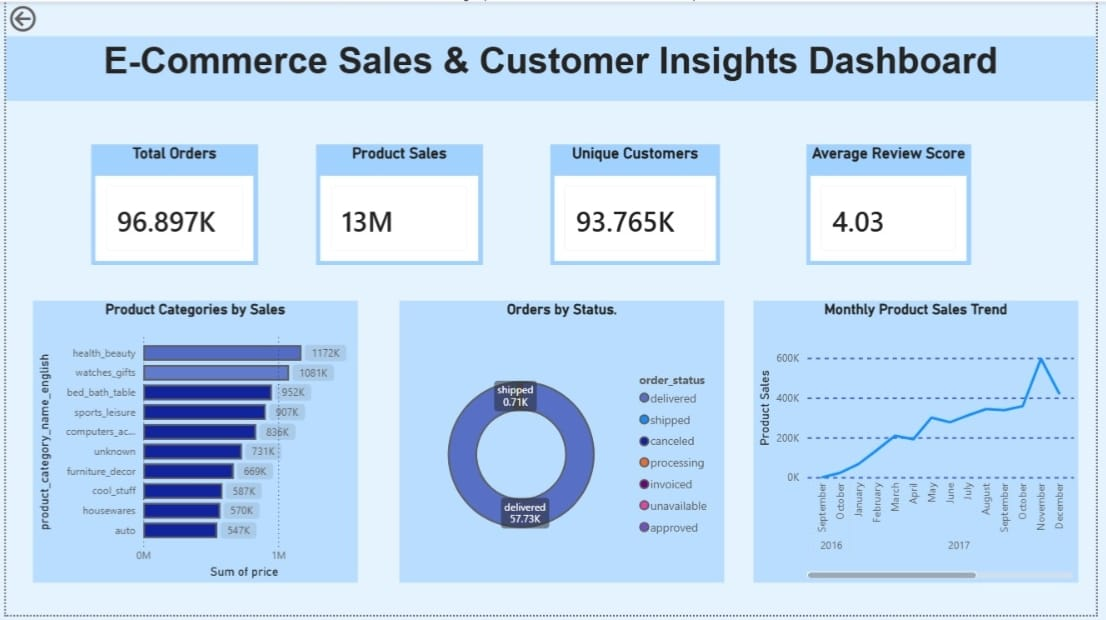

The dashboard page shown, as its layout file describes it:
{"tool":"powerbi","page":{"name":"Page 1","canvas":[1280,720],"ordinal":0},"visuals":[{"type":"cardVisual","title":"Total Orders","fields":{"Data":["Count(olist_master_dataset.order_id)"]},"box":[100.3,167.5,195.7,141.8],"z":0},{"type":"cardVisual","title":"Product Sales","fields":{"Data":["Sum(olist_master_dataset.price)"]},"box":[364.4,167.5,195.7,141.8],"z":1000},{"type":"cardVisual","title":"Unique Customers","fields":{"Data":["Count(olist_master_dataset.customer_unique_id)"]},"box":[639.5,167.5,199.3,141.8],"z":2000},{"type":"cardVisual","title":"Average Review Score","fields":{"Data":["Avg(olist_master_dataset.avg_review_score)"]},"box":[940.4,167.8,193.2,141.8],"z":3000},{"type":"actionButton","box":[0,0,100,40],"z":4000},{"type":"clusteredBarChart","title":"Product Categories by Sales","fields":{"Category":["olist_master_dataset.product_category_name_english"],"Y":["Sum(olist_master_dataset.price)"]},"box":[31.8,351,381.5,331.4],"z":5000},{"type":"donutChart","title":"Orders by Status.","fields":{"Category":["olist_master_dataset.order_status"],"Y":["Count(olist_master_dataset.order_id)"]},"box":[462.2,351,381.5,331.4],"z":6000},{"type":"lineChart","title":"Monthly Product Sales Trend","fields":{"Y":["Sum(olist_master_dataset.price)"],"Category":["olist_master_dataset.order_purchase_timestamp.Variation.Date Hierarchy.Year","olist_master_dataset.order_purchase_timestamp.Variation.Date Hierarchy.Month"]},"box":[878,351,381.5,331.4],"z":7000},{"type":"textbox","box":[0,40.4,1280.3,75.8],"z":8000}]}

Visuals, with their boxes on the page's 1280x720 design canvas (x1, y1, x2, y2). These are canvas units, not pixel positions in the 1106x620 screenshot, which may show the page scaled, cropped or inside an application window:
"Total Orders" cardVisual: pyautogui.locateOnScreen(100, 168, 296, 309)
"Product Sales" cardVisual: pyautogui.locateOnScreen(364, 168, 560, 309)
"Unique Customers" cardVisual: pyautogui.locateOnScreen(640, 168, 839, 309)
"Average Review Score" cardVisual: pyautogui.locateOnScreen(940, 168, 1134, 310)
actionButton: pyautogui.locateOnScreen(0, 0, 100, 40)
"Product Categories by Sales" clusteredBarChart: pyautogui.locateOnScreen(32, 351, 413, 682)
"Orders by Status." donutChart: pyautogui.locateOnScreen(462, 351, 844, 682)
"Monthly Product Sales Trend" lineChart: pyautogui.locateOnScreen(878, 351, 1260, 682)
textbox: pyautogui.locateOnScreen(0, 40, 1280, 116)
